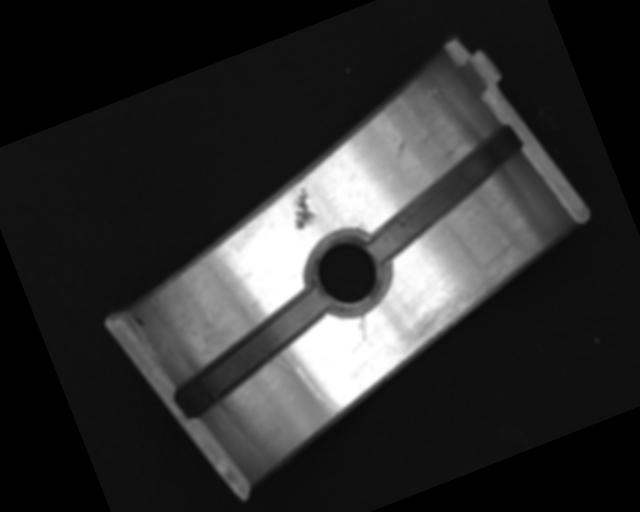blot: (130, 310, 145, 329)
bruise: (282, 185, 321, 233), (388, 132, 411, 160), (425, 84, 442, 98)
gap: (347, 122, 545, 267), (155, 282, 348, 422)
hole: (296, 222, 398, 325)
nick: (293, 355, 343, 422), (354, 314, 373, 342)
scratch: (379, 227, 568, 370)
